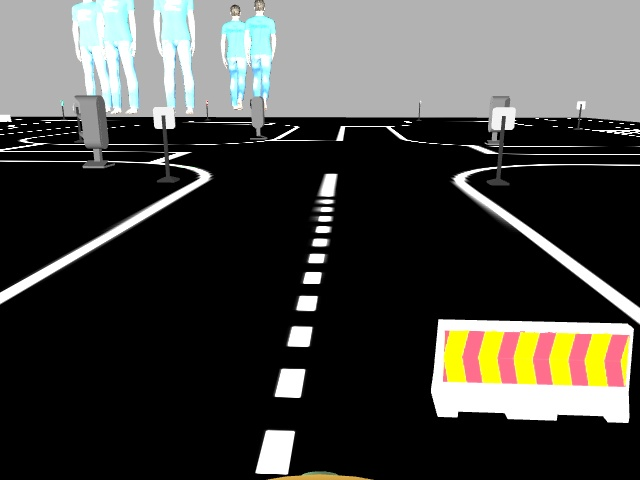ClosedRoadStand: (438, 320, 629, 419)
